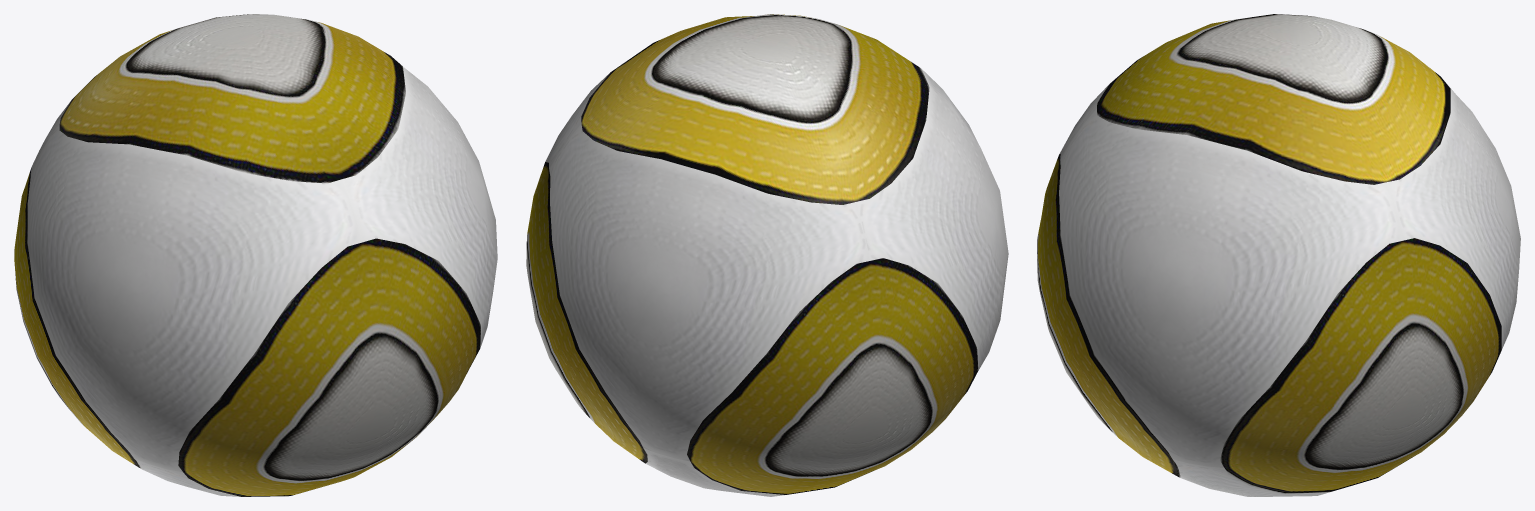
File: BallA.FBX
3 views of the same model, side by side, from view 1: azimuth 30°, elevation 25°; view 2: azimuth 150°, elevation 25°; view 3: azimuth 270°, elevation 25° (orthographic).
Parts seen in each view (by area): view 1: BallA; view 2: BallA; view 3: BallA.
Part boxes in pixels (x1=…): BallA: x1=14, y1=14, x2=497, y2=496; BallA: x1=526, y1=14, x2=1008, y2=496; BallA: x1=1037, y1=14, x2=1520, y2=496.
Size of the model in its own units: 0.9857 by 0.9892 by 0.9887.
1 material, 1 textured.
